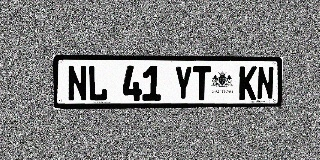1: (142, 66, 161, 101)
4: (123, 66, 142, 101)
K: (239, 66, 257, 100)
L: (88, 65, 107, 101)
N: (67, 65, 87, 102), (257, 66, 274, 100)
T: (193, 66, 211, 100)
Y: (174, 66, 192, 101)
